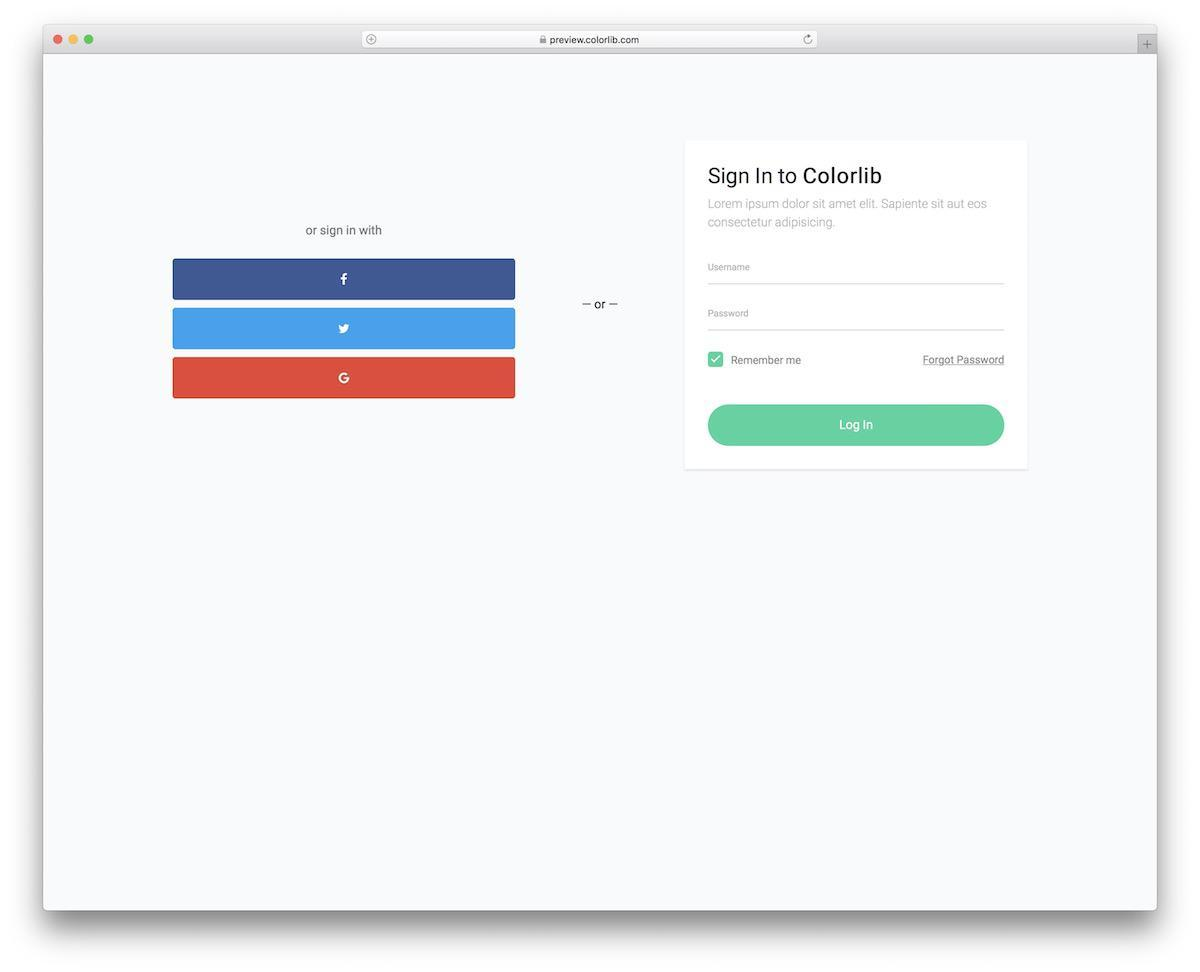button: (173, 308, 516, 351), (174, 259, 516, 301), (709, 403, 1007, 451), (173, 359, 517, 399)
checkbox: (708, 351, 726, 368)
label: (732, 352, 807, 370)
